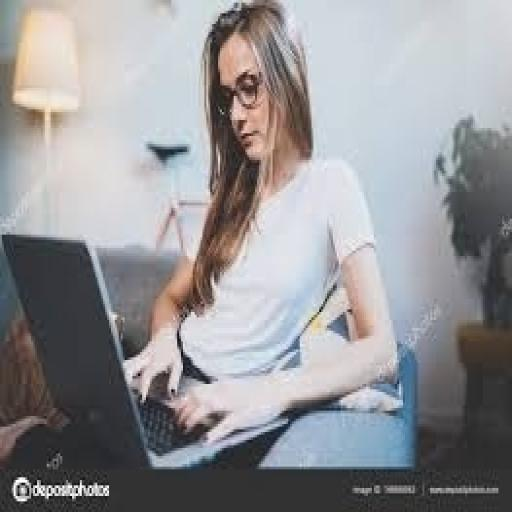using_laptop: (0, 227, 290, 469)
